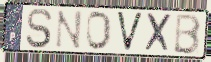B: (172, 12, 203, 56)
N: (53, 9, 84, 50)
O: (85, 10, 113, 52)
S: (24, 7, 54, 50)
V: (114, 10, 145, 53)
X: (143, 12, 174, 54)
